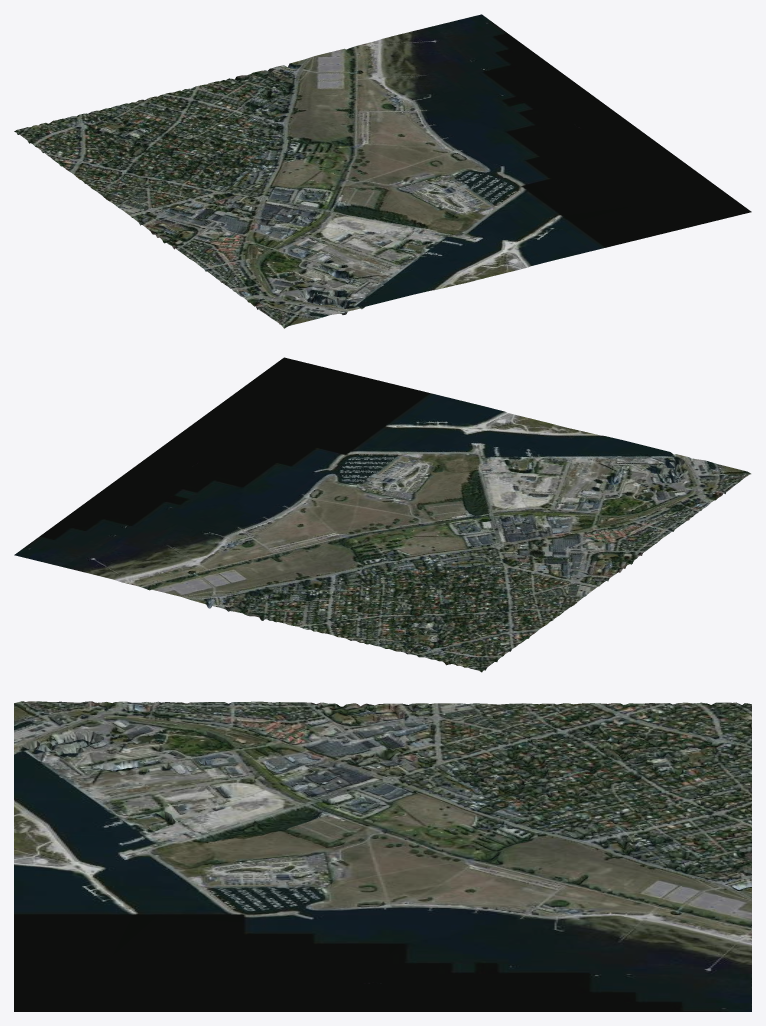
File: map_10_250_423.dae
3 renders of one model, top to bottom at view 1: azimuth 30°, elevation 25°; view 2: azimuth 150°, elevation 25°; view 3: azimuth 270°, elevation 25°, orthographic. The views are drawn at different scales.
Parts seen in each view (by area): view 1: Ter0; view 2: Ter0; view 3: Ter0.
Part boxes in pixels (box(x1,y1,x2,y2)): Ter0: box(14, 14, 751, 328); Ter0: box(14, 357, 750, 672); Ter0: box(14, 701, 751, 1011).
Size of the model in its own units: 2044 by 2044 by 49.37.
3 materials, 3 textured.
